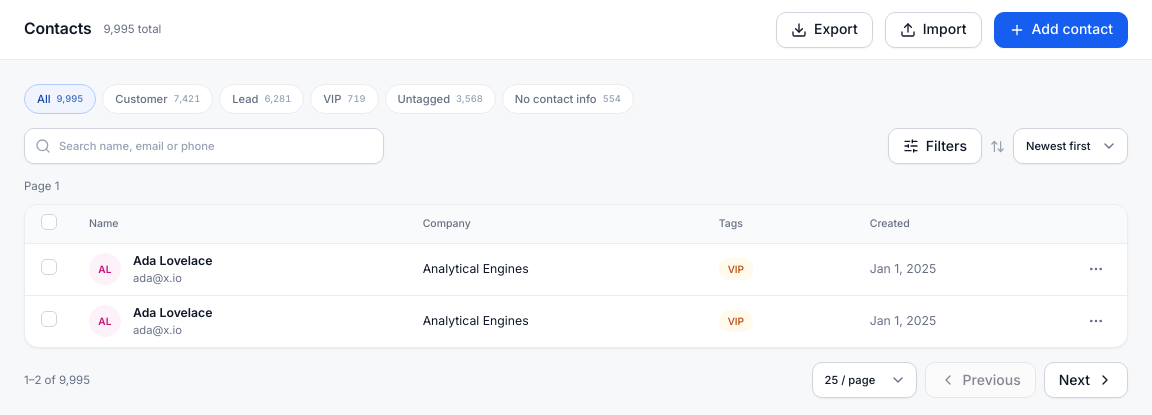
table design › unfiltered, shows the exact total (from the metrics) and the visible range; the range moves with the page
expect the text "1–2 of 9,995" is shown: met, box [24,372,90,388]
expect the header shows "9,995 total": met, box [104,22,161,36]
Click the button "Next" at (1086, 380), box [1044,362,1128,398]
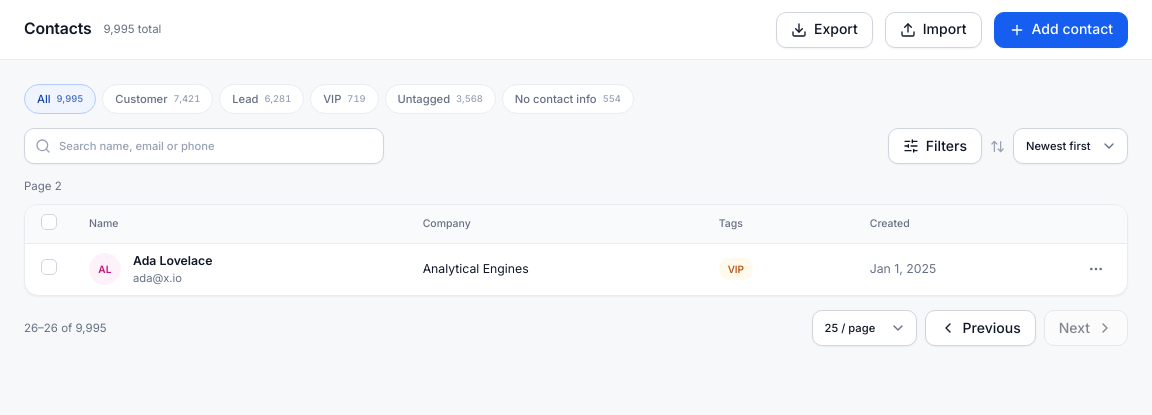
expect the text "26–26 of 9,995" is shown: met, box [24,320,107,336]
